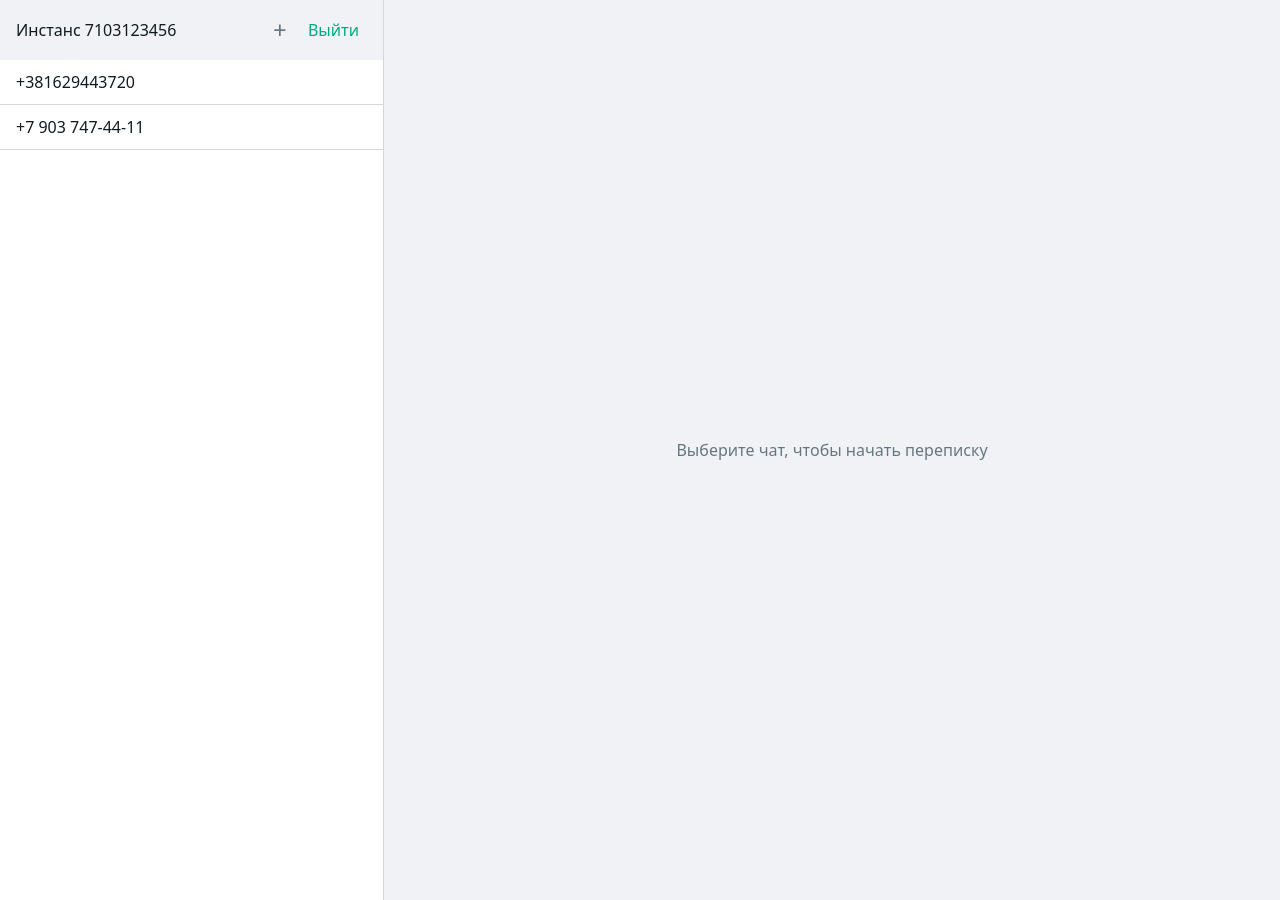
Test case: §2.1 starting a chat › opens an existing chat without checking it again
The image size is (1280, 900).
Expected: the text "Инстанс 7103123456" is shown, [16,18,176,42]
Click the button named "Новый чат": {"x": 280, "y": 30} [264,14,296,46]
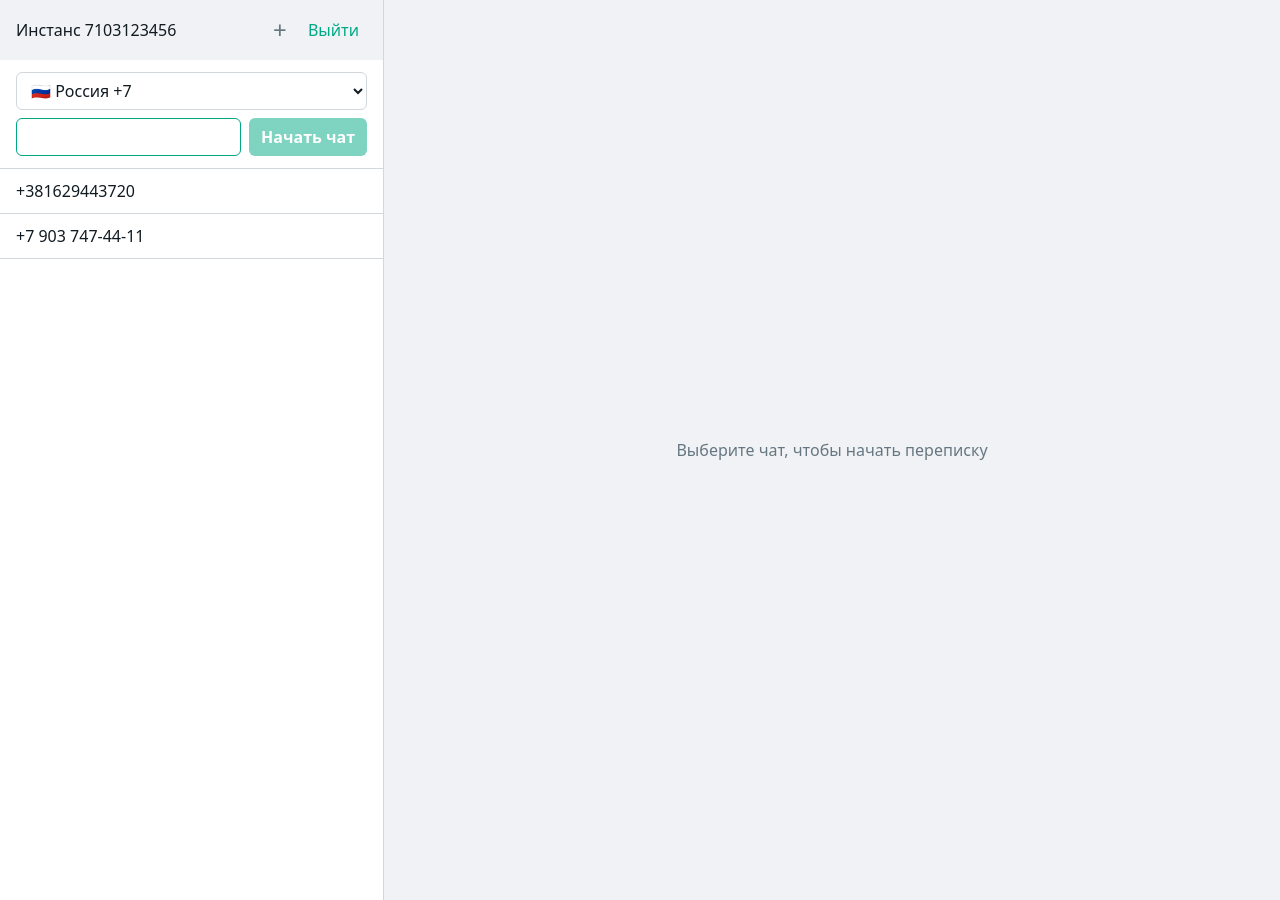
In the field named "Номер телефона": {"x": 129, "y": 137} [16,118,241,156], type "(903) 7474411"
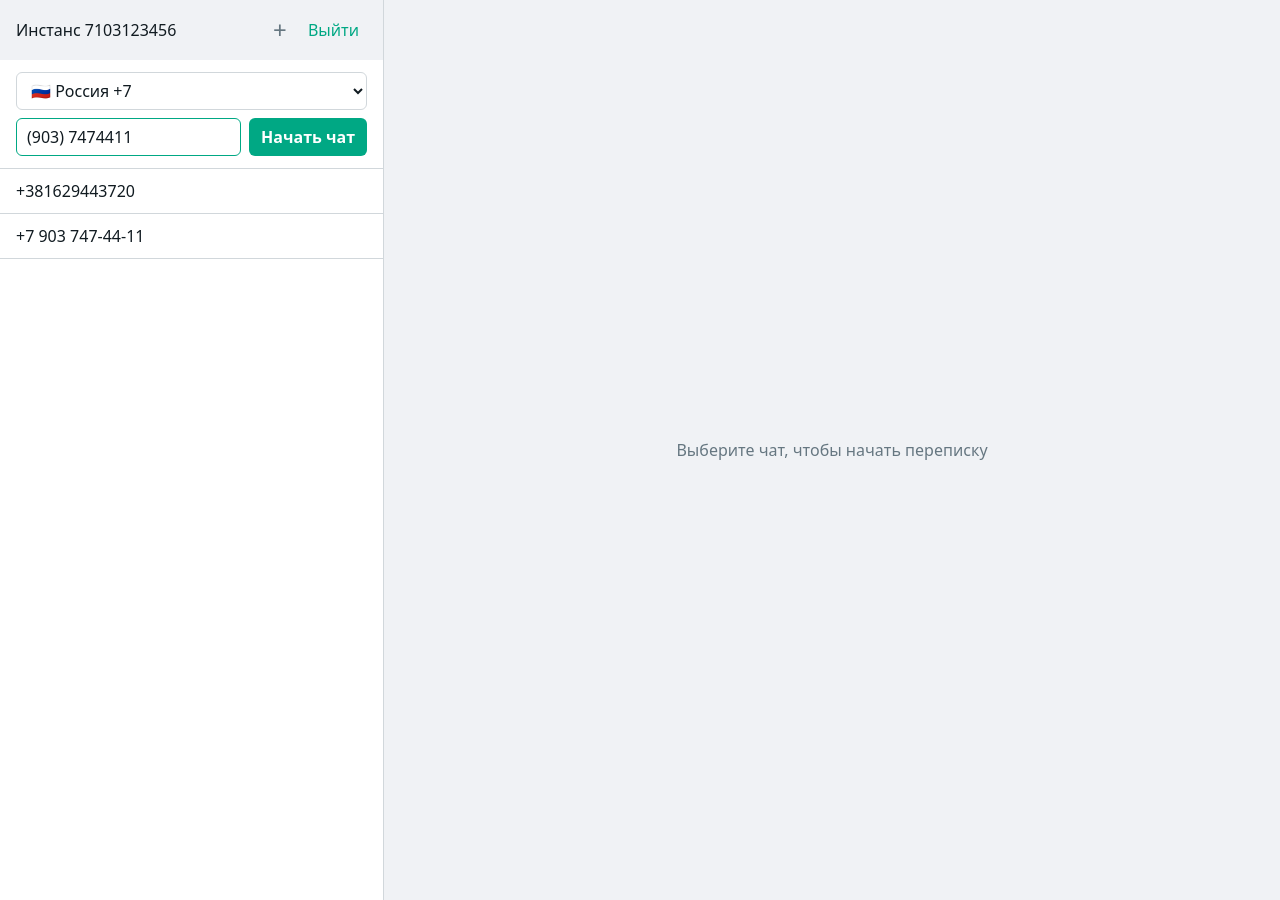
Click the button "Начать чат": {"x": 308, "y": 137} [249,118,367,156]
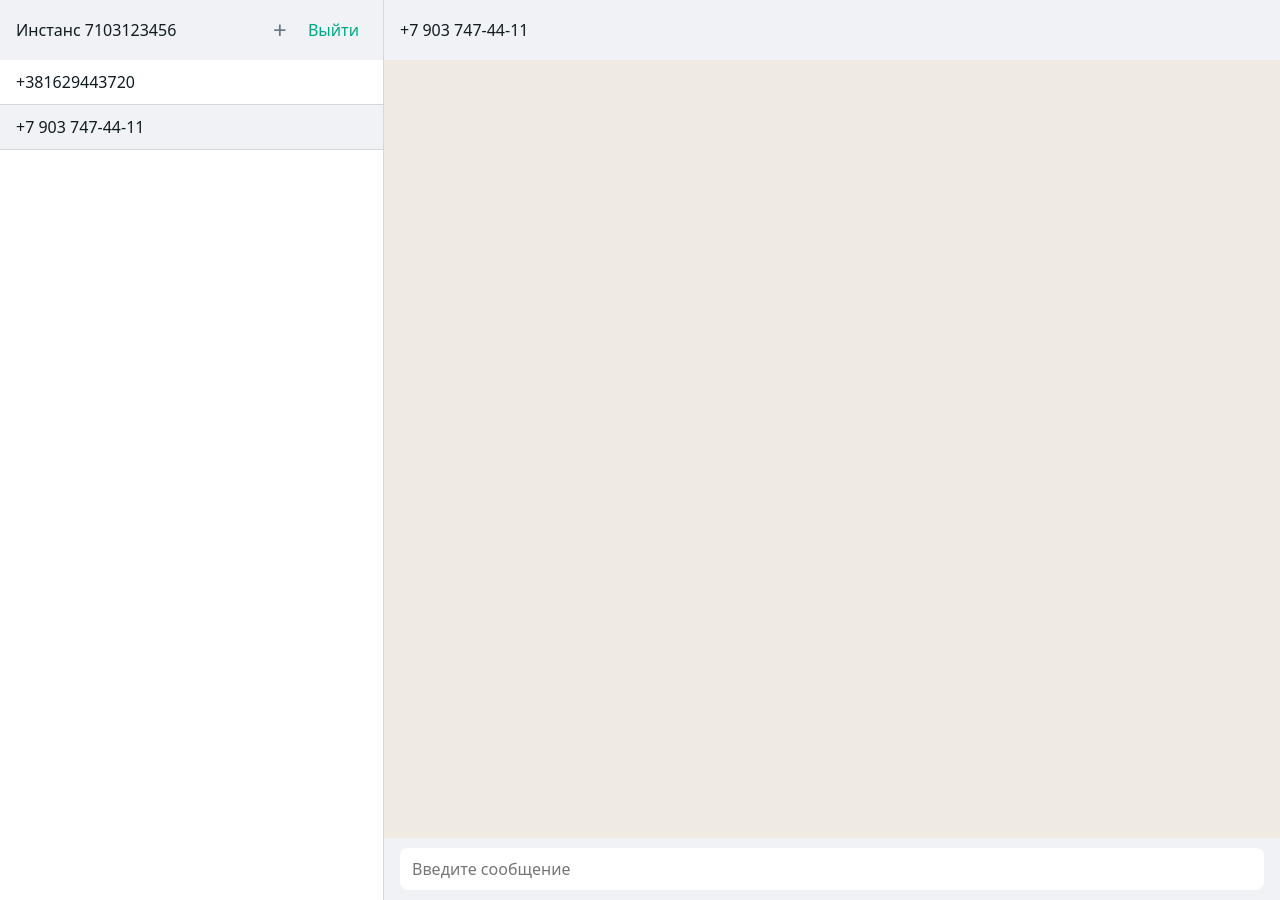
Result: the heading reads "+7 903 747-44-11" at [400,19,528,41]
